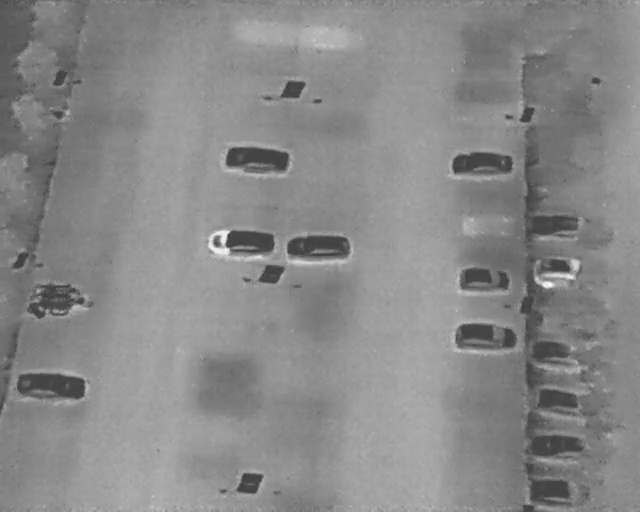Car: (15, 368, 88, 405), (222, 141, 290, 176), (206, 226, 275, 259), (528, 475, 593, 507), (530, 340, 589, 374), (286, 234, 352, 261), (532, 255, 589, 286), (529, 213, 593, 240), (456, 321, 517, 348), (451, 151, 514, 177), (535, 385, 587, 415), (531, 433, 587, 458), (460, 267, 510, 292)
